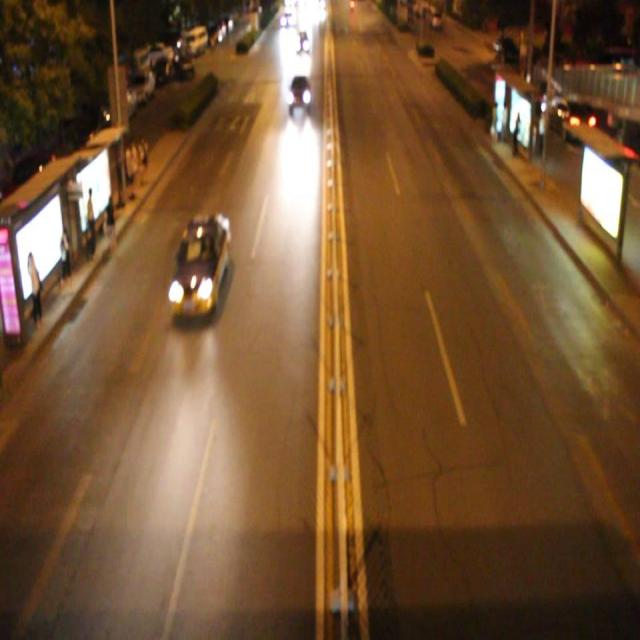car: (167, 214, 232, 316), (286, 69, 312, 108)
